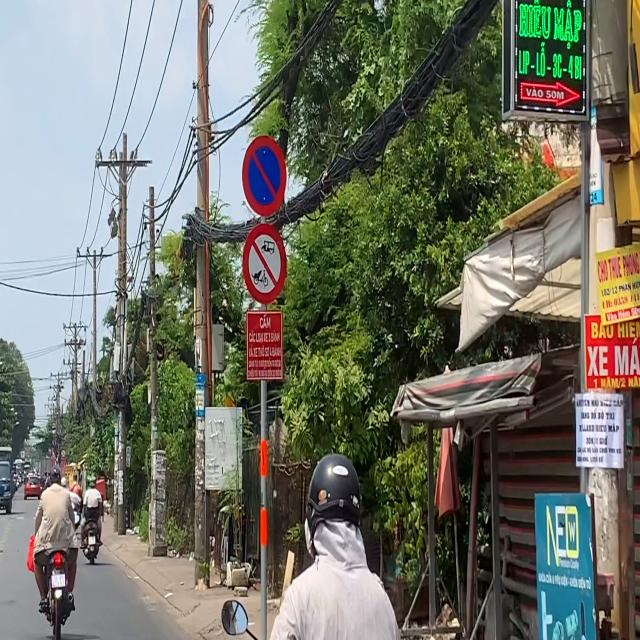Cam con lai: (243, 222, 287, 305)
Cam do: (240, 133, 288, 218)
